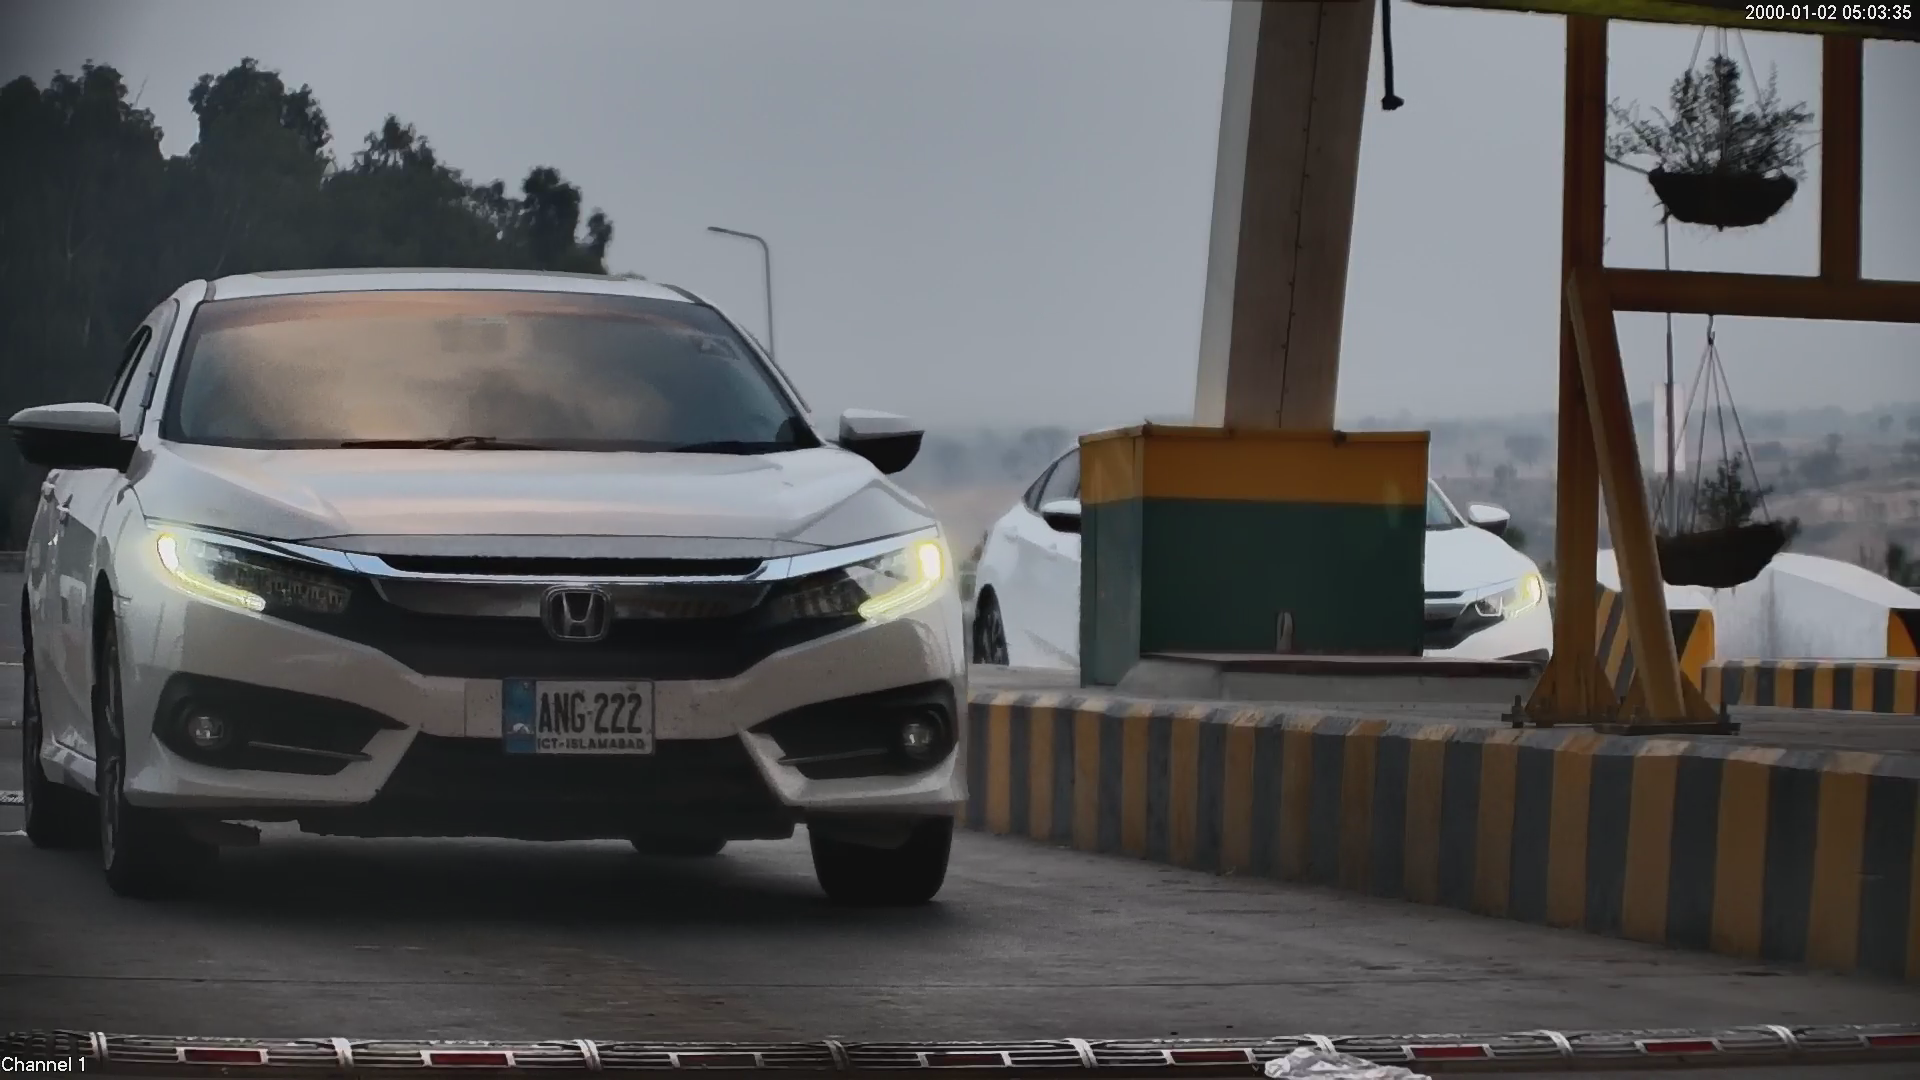Number_Plate: (496, 667, 663, 765)
